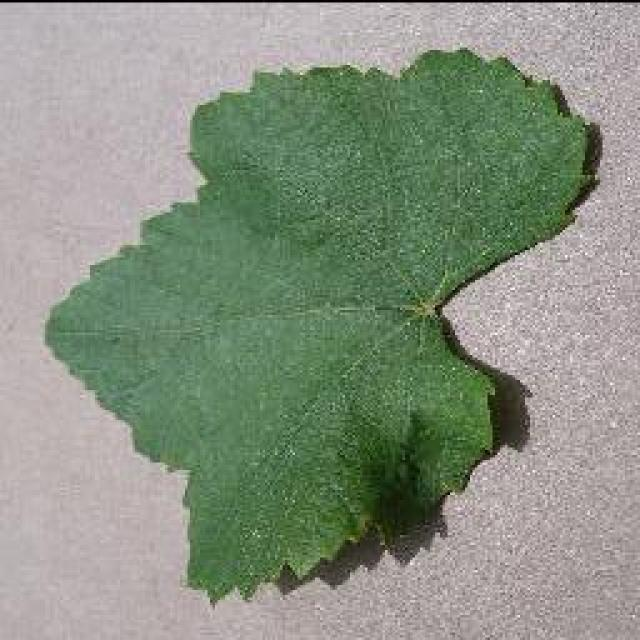Grape___healthy: (48, 50, 588, 598)
